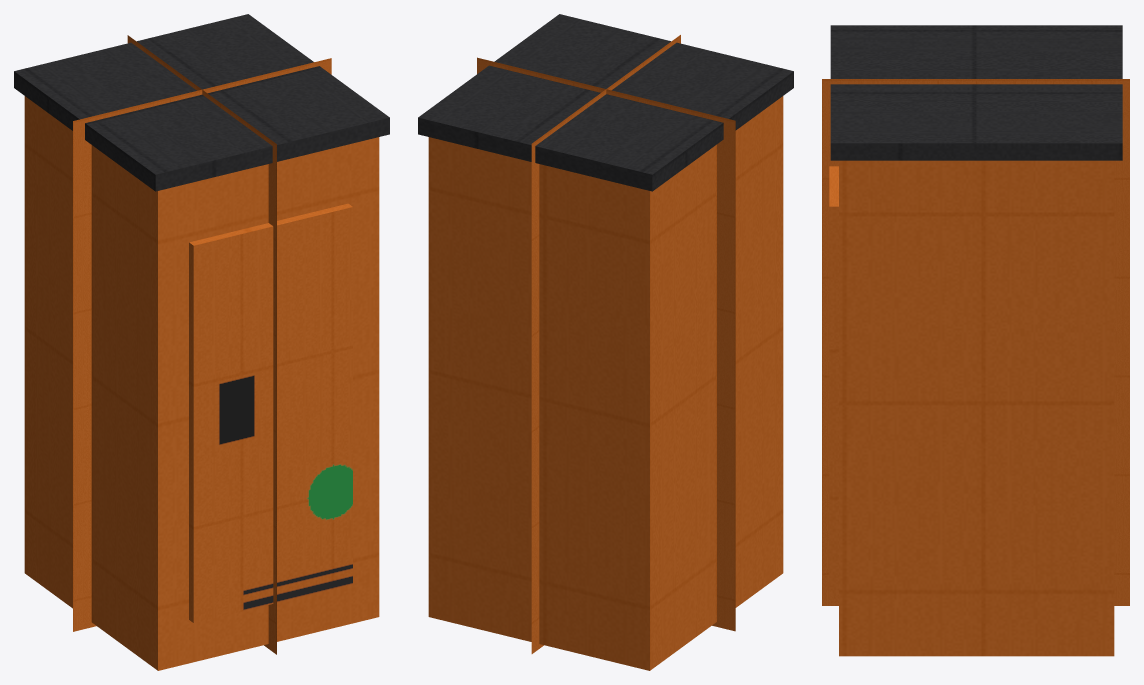
Rendered from portapotty_orange.dae.
3 views of the same model, side by side, from view 1: azimuth 30°, elevation 25°; view 2: azimuth 150°, elevation 25°; view 3: azimuth 270°, elevation 25° (orthographic). The views are drawn at different scales.
Visible parts, largest first — view 1: portapotty_orange_a800, portapotty_orange_a200, portapotty_orange_a50; view 2: portapotty_orange_a800, portapotty_orange_a200, portapotty_orange_a50; view 3: portapotty_orange_a800, portapotty_orange_a200, portapotty_orange_a50.
Boxes of the visible parts, left/top/right/bottom form: portapotty_orange_a800: left=14, top=14, right=389, bottom=670; portapotty_orange_a200: left=29, top=138, right=379, bottom=670; portapotty_orange_a50: left=73, top=35, right=331, bottom=654; portapotty_orange_a800: left=418, top=14, right=793, bottom=670; portapotty_orange_a200: left=428, top=98, right=783, bottom=670; portapotty_orange_a50: left=477, top=35, right=735, bottom=653; portapotty_orange_a800: left=829, top=25, right=1122, bottom=656; portapotty_orange_a200: left=839, top=160, right=1111, bottom=656; portapotty_orange_a50: left=822, top=79, right=1129, bottom=605.
Bounding box in the file's own units: 1.29 × 1.29 × 2.43.
4 materials, 3 textured.
